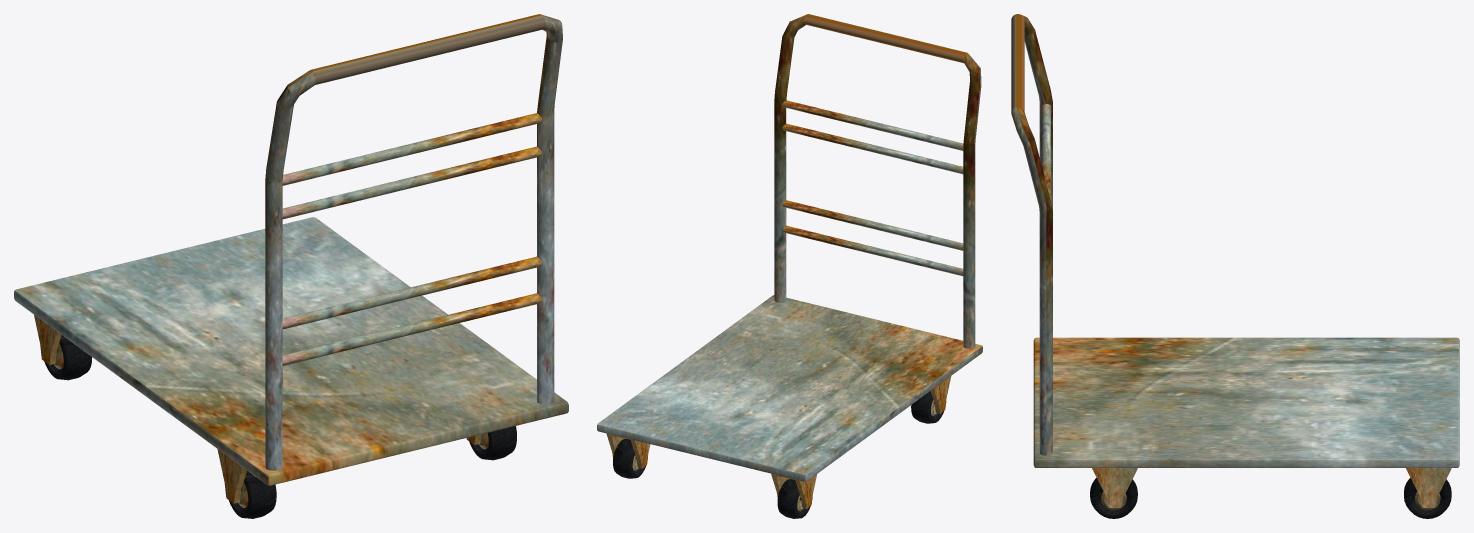
The model's file is flatTrolley.FBX.
3 renders of one model, left to right at view 1: azimuth 30°, elevation 25°; view 2: azimuth 150°, elevation 25°; view 3: azimuth 270°, elevation 25°, orthographic. The views are drawn at different scales.
Visible parts, largest first — view 1: trolley; view 2: trolley; view 3: trolley.
Boxes of the visible parts, x1,y1,x2,y2 form: trolley: [14, 14, 568, 518]; trolley: [597, 14, 982, 518]; trolley: [1011, 14, 1459, 518].
Bounding box in the file's own units: 50.18 × 77.29 × 77.4.
Materials: 2 (2 with a texture image).
